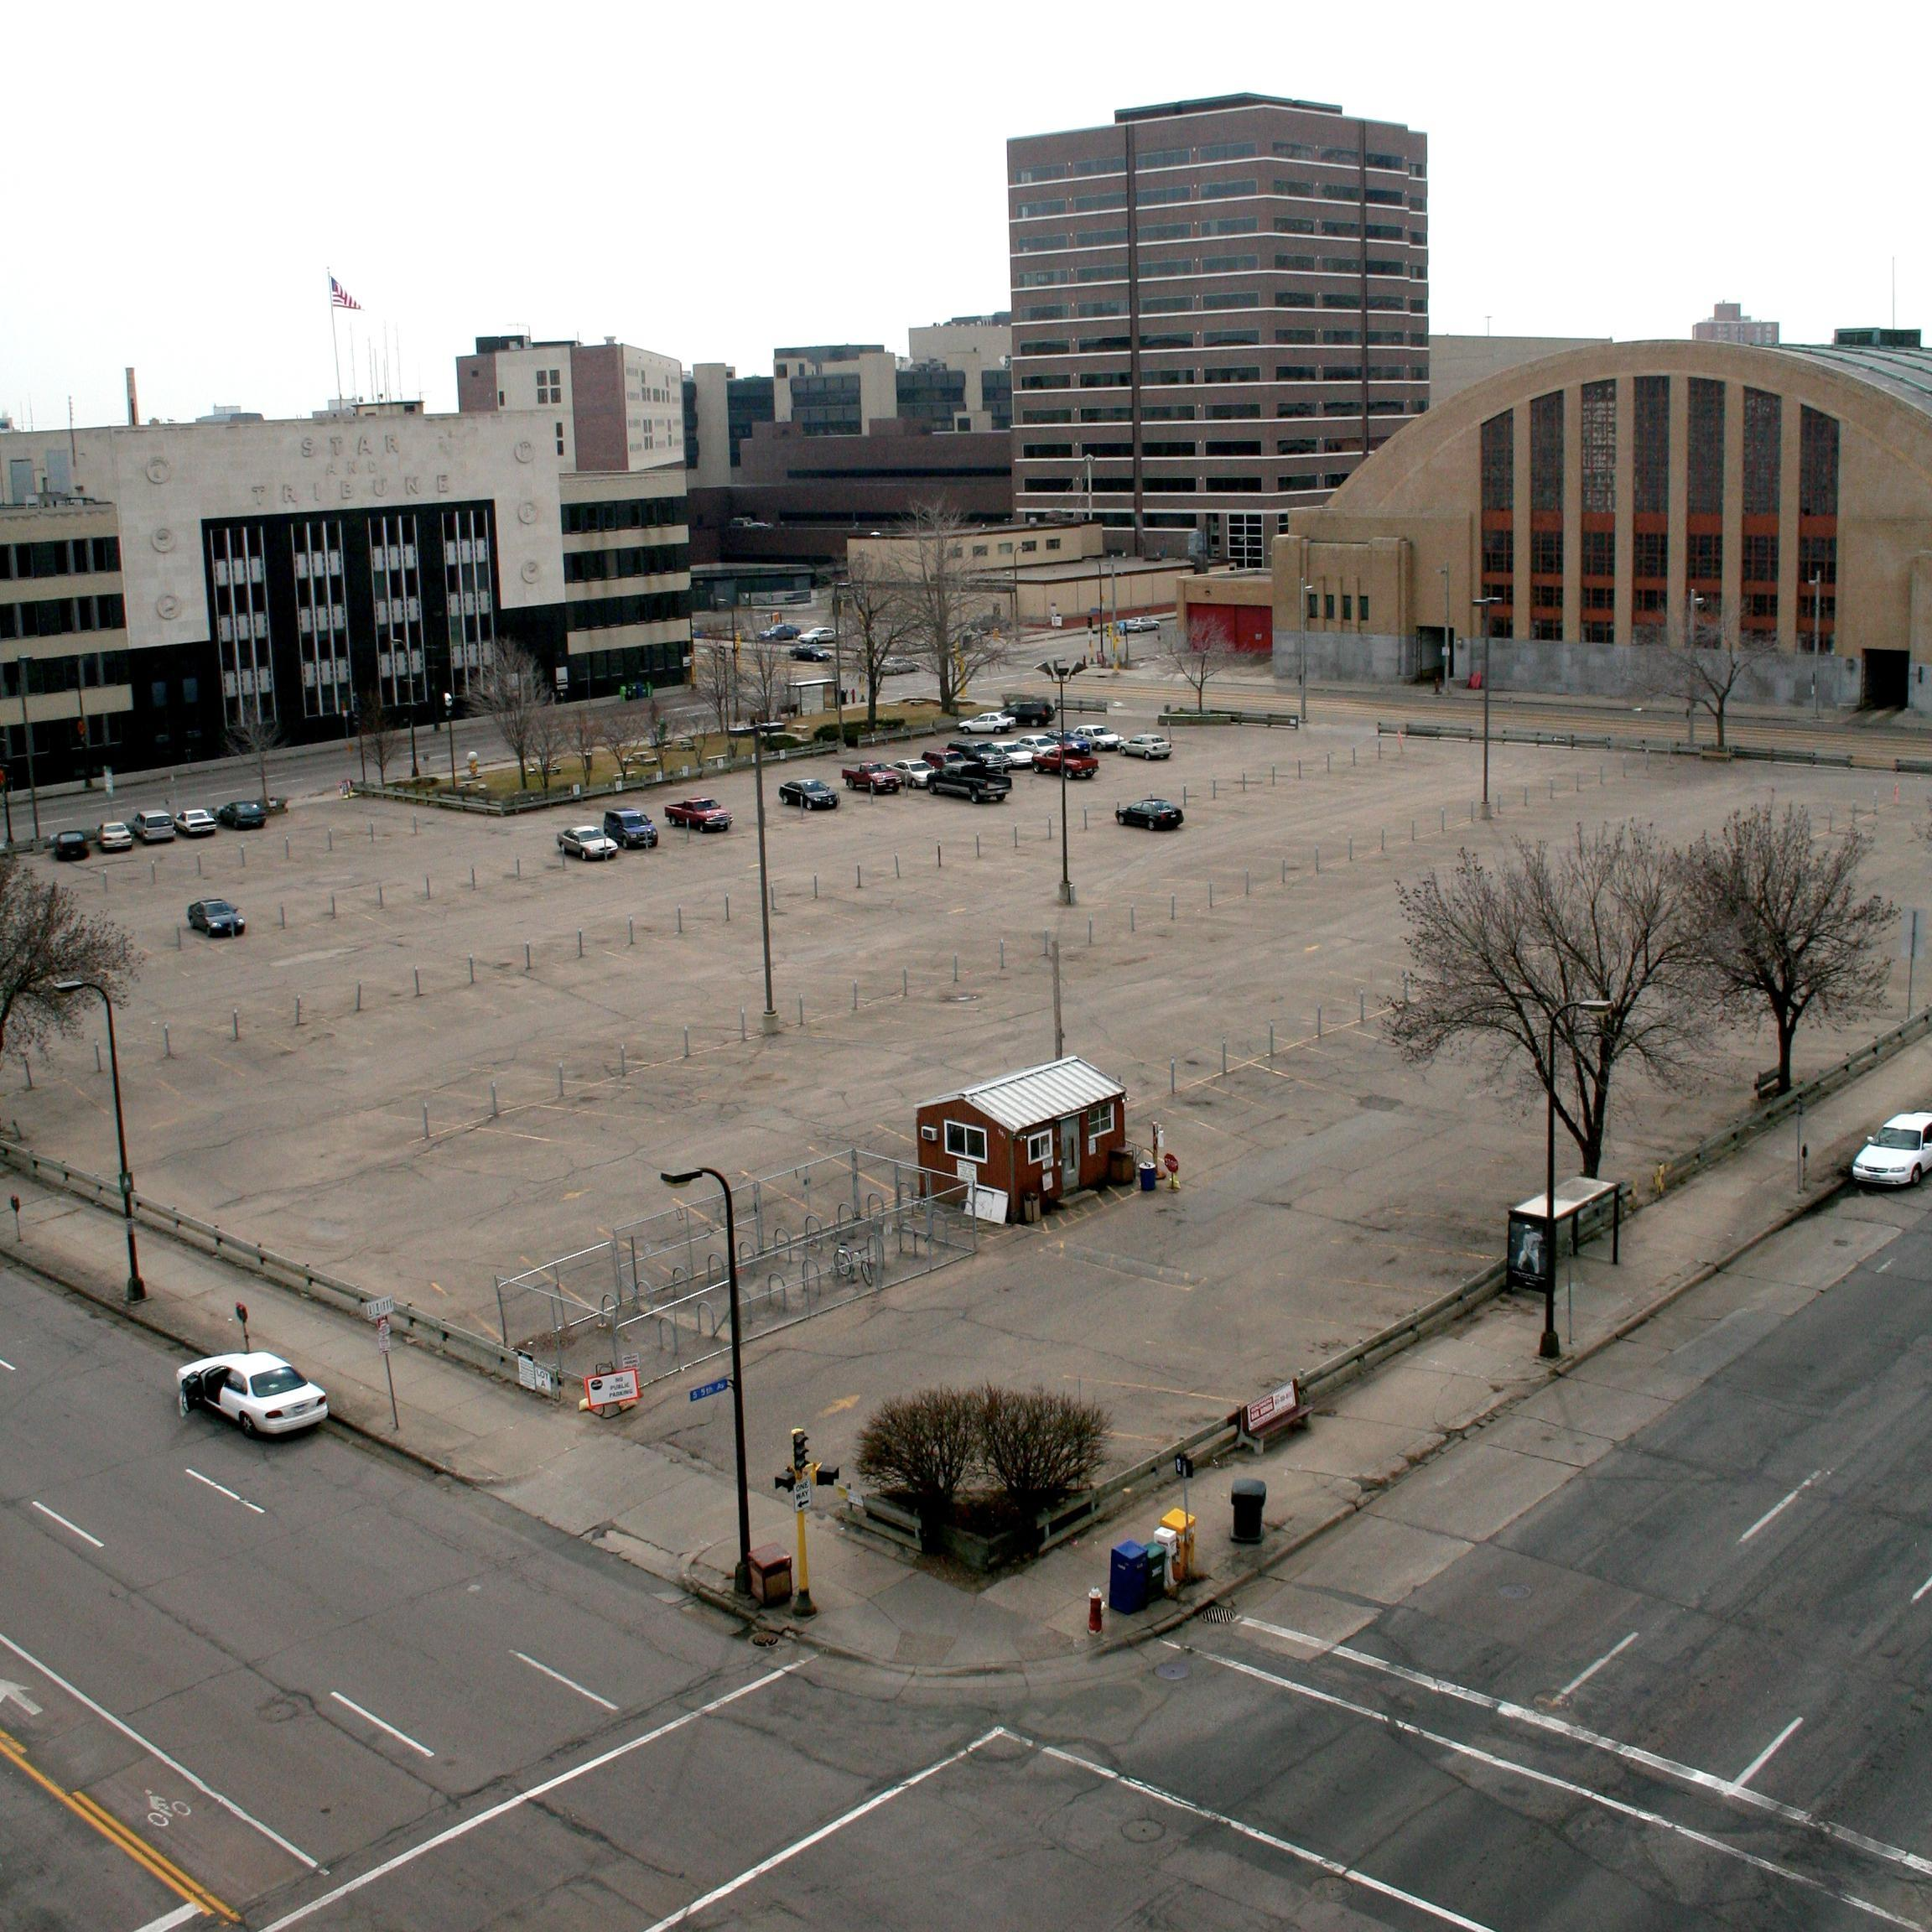Car: (172, 1348, 331, 1442), (1849, 1108, 1932, 1191), (925, 759, 1016, 805), (663, 794, 734, 835), (184, 895, 246, 939), (552, 823, 619, 863), (1113, 796, 1185, 833), (945, 736, 1014, 775), (602, 807, 660, 851), (1031, 745, 1100, 780), (840, 757, 902, 794), (777, 777, 839, 812), (886, 757, 941, 791), (218, 798, 269, 832), (133, 807, 177, 846), (1116, 732, 1175, 761), (1070, 722, 1125, 752), (51, 826, 92, 863), (1040, 729, 1093, 757), (173, 805, 218, 839), (94, 819, 134, 853), (920, 745, 970, 771), (1010, 732, 1062, 755), (991, 740, 1035, 766), (876, 656, 922, 676), (787, 644, 833, 663), (755, 623, 801, 642), (796, 626, 842, 644), (1125, 616, 1161, 633)
